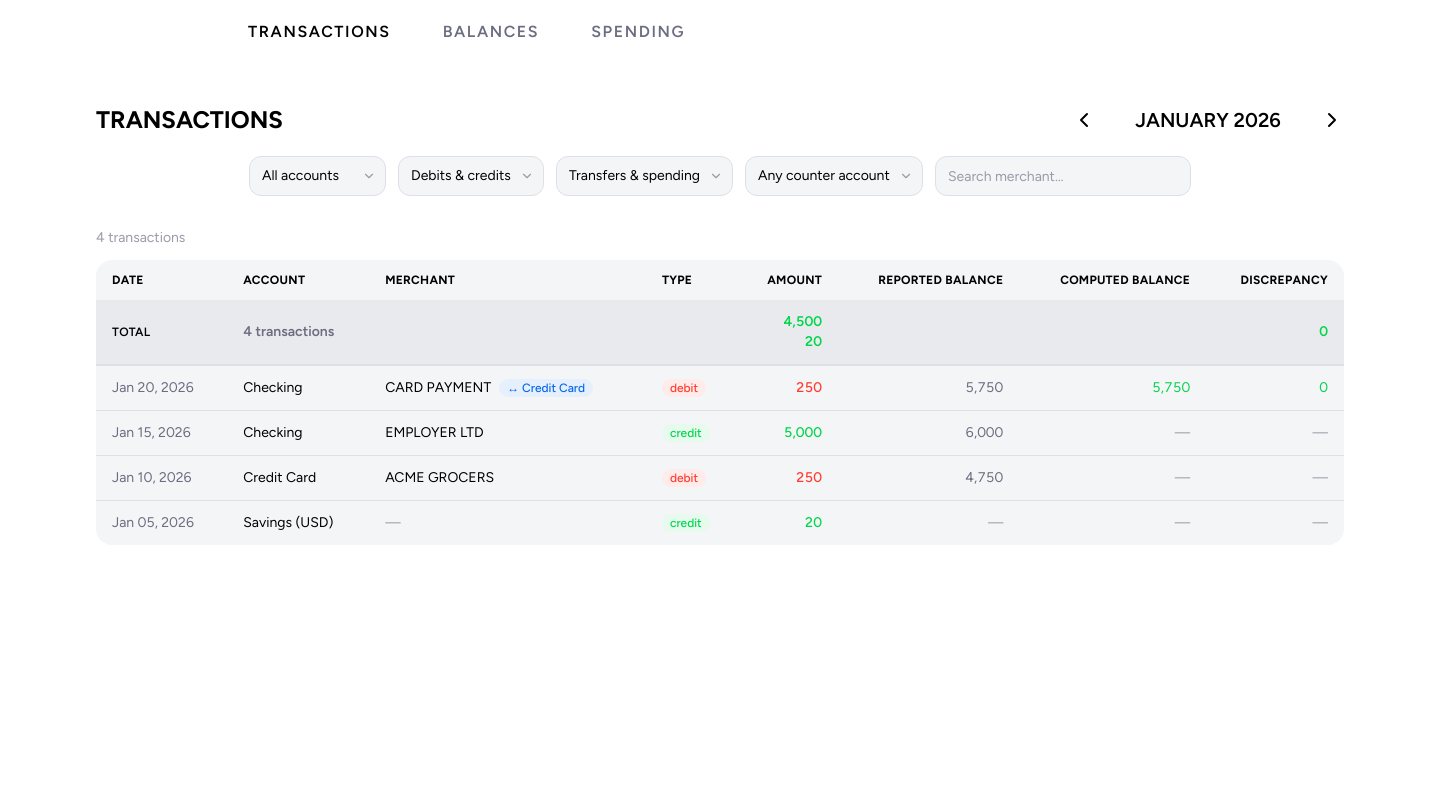
Scenario: Transaction detail modal › closes on the close button
Click the row "Jan 15, 2026 Checking EMPLOYER LTD credit 5,000 6,000 — —": {"x": 720, "y": 433} [96, 410, 1344, 456]
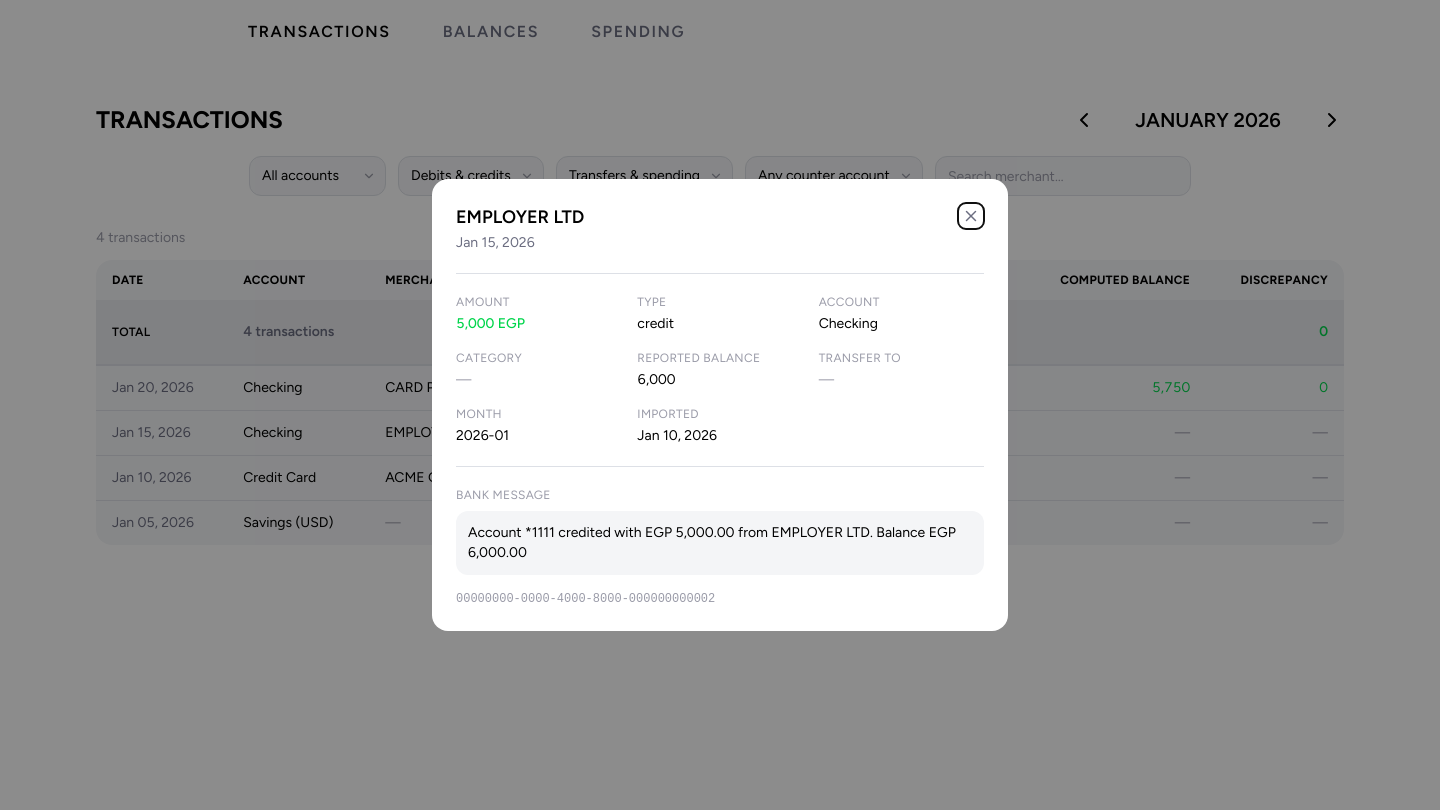
Click the button named "Close": {"x": 971, "y": 216} [958, 203, 984, 229]
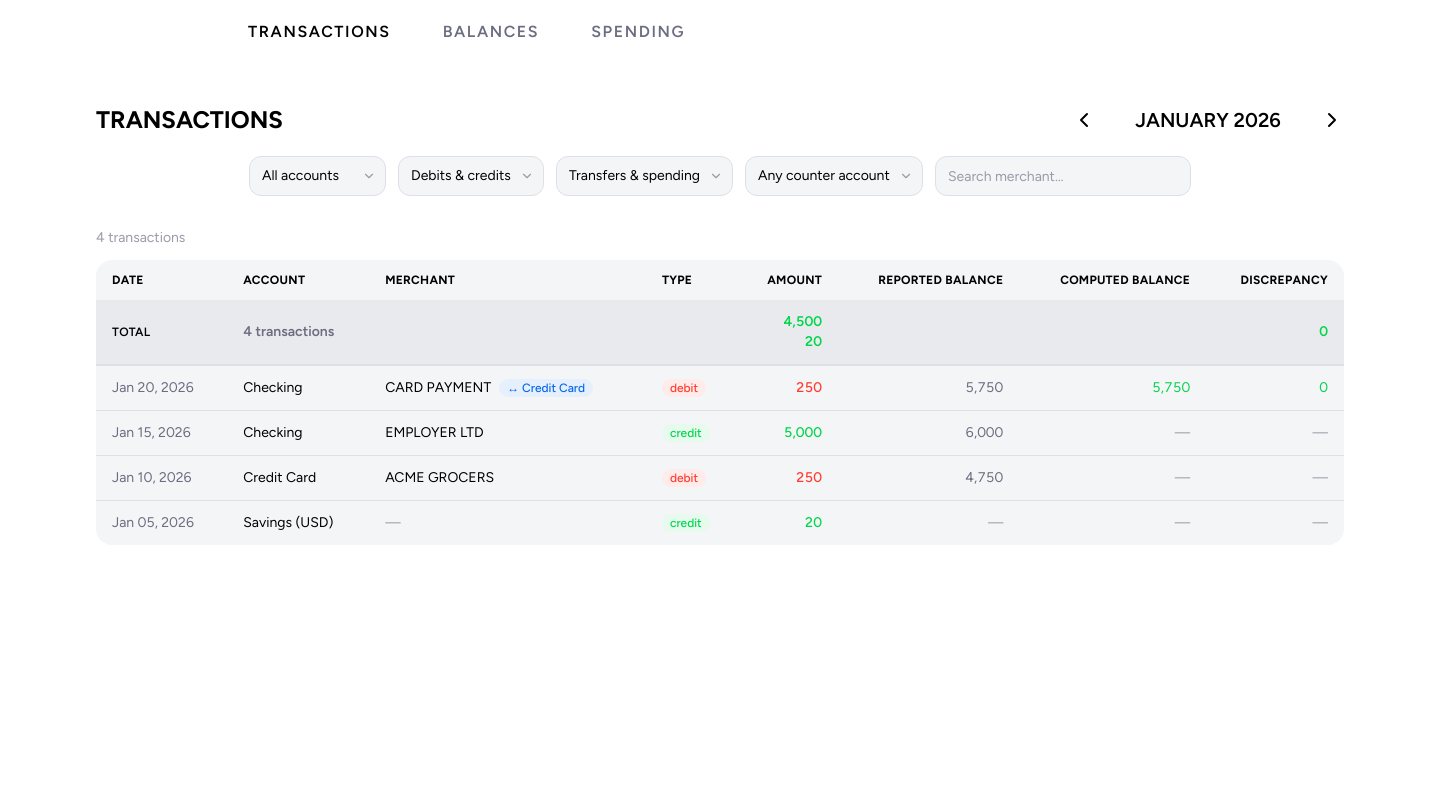
Result: the dialog is gone
